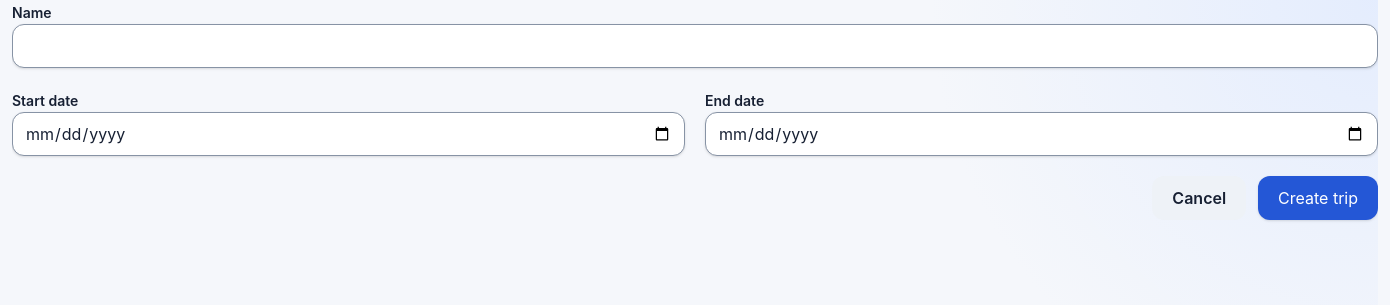
Scenario: CreateTripForm › prevents duplicate pending submissions and presents safe errors
This screenshot has width=1390, height=305.
Type "Japan" into the field labelled "Name". click: (695,46)
box: [12, 24, 1378, 68]
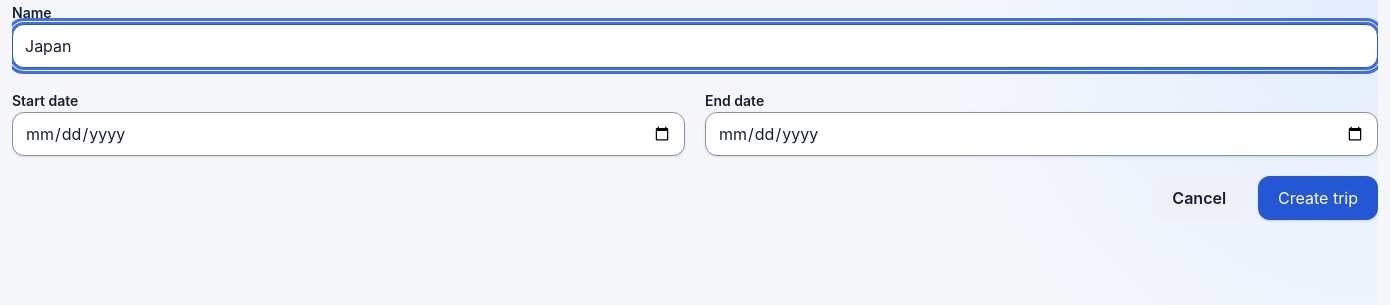
Click the button "Create trip". click: (1318,198)
box: [1258, 176, 1378, 220]
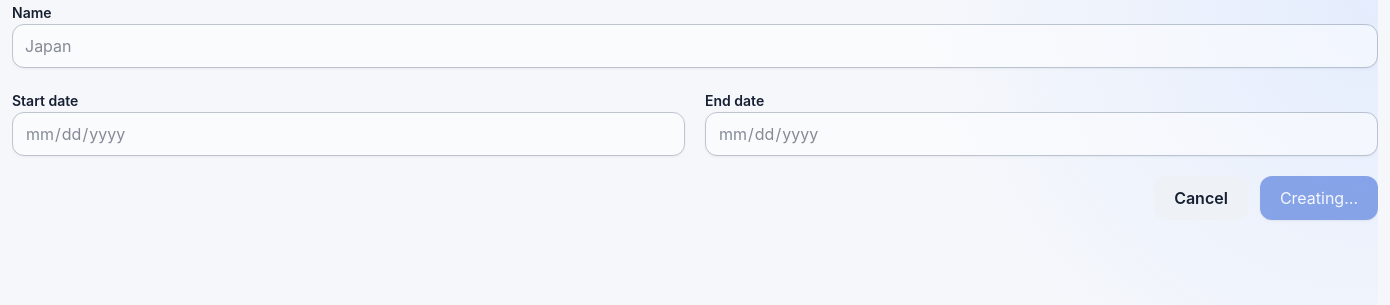
Now the button "Creating…" is disabled
Click the button "Creating…". click: (1319,198)
box: [1260, 176, 1378, 220]
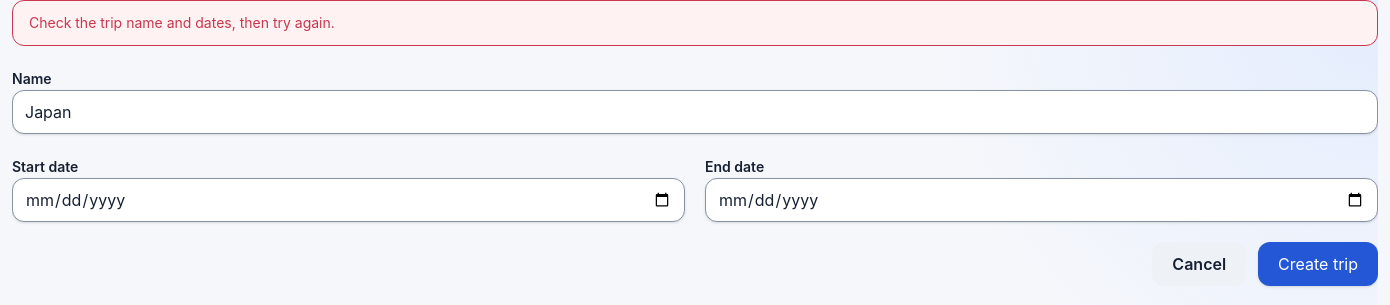
Now the message reads "Check the trip name and dates, then try again.", box [29, 14, 335, 31]
